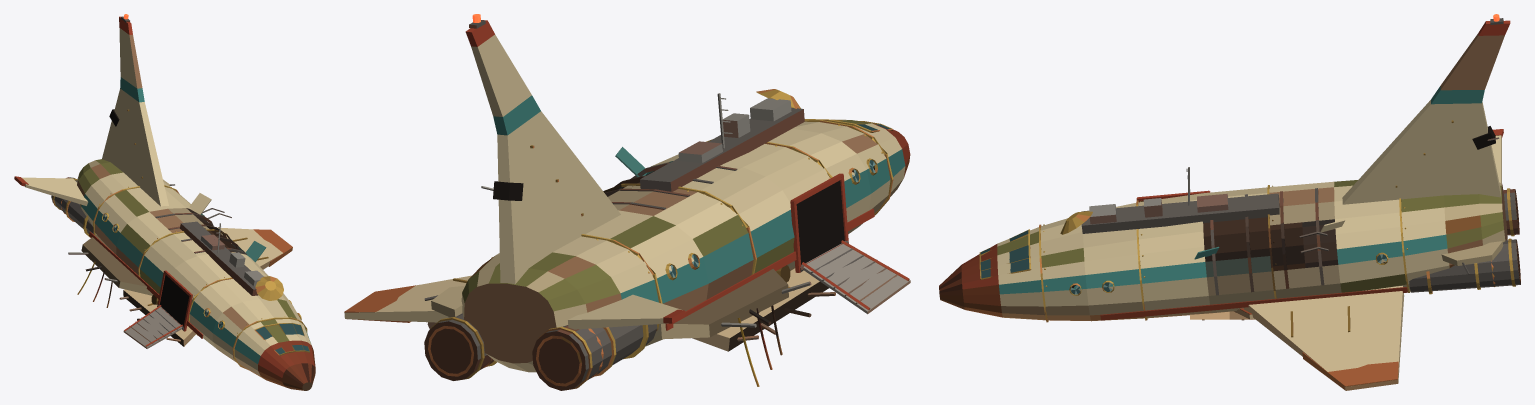
Rendered from ship.glb.
The picture shows the model from 3 angles, left to right: view 1: azimuth 30°, elevation 25°; view 2: azimuth 150°, elevation 25°; view 3: azimuth 270°, elevation 25°; orthographic projection. The views are drawn at different scales.
Visible parts, largest first — view 1: Ship_Hull, Ship_Wing; view 2: Ship_Hull, Ship_Wing; view 3: Ship_Hull.
Boxes of the visible parts, <box> form: Ship_Hull: <box>14,14,315,390</box>; Ship_Wing: <box>119,289,195,346</box>; Ship_Hull: <box>344,14,910,390</box>; Ship_Wing: <box>692,268,835,351</box>; Ship_Hull: <box>939,14,1520,390</box>.
Size of the model in its own units: 15.71 by 15.64 by 26.41.
